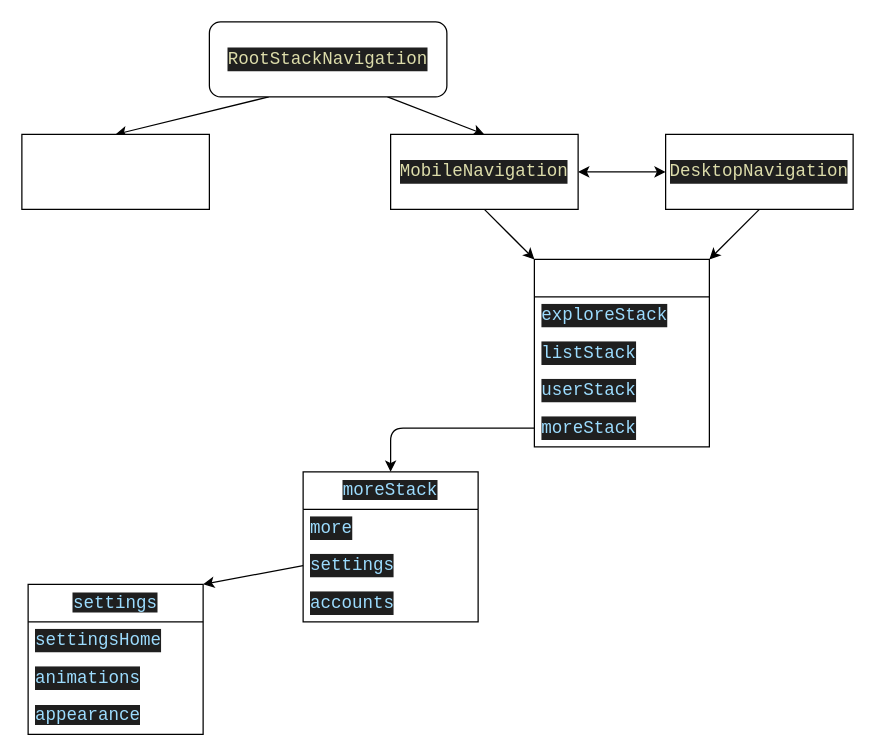
This 875x756 diagram has some shape labels left out. The shapes that lost their labels are listed below. From the top down, each one's box as (x1, y1, x2, y2) in pixels, then its label:
(21, 133, 209, 209): MediaScreen
(533, 258, 709, 447): RootNavPaths
